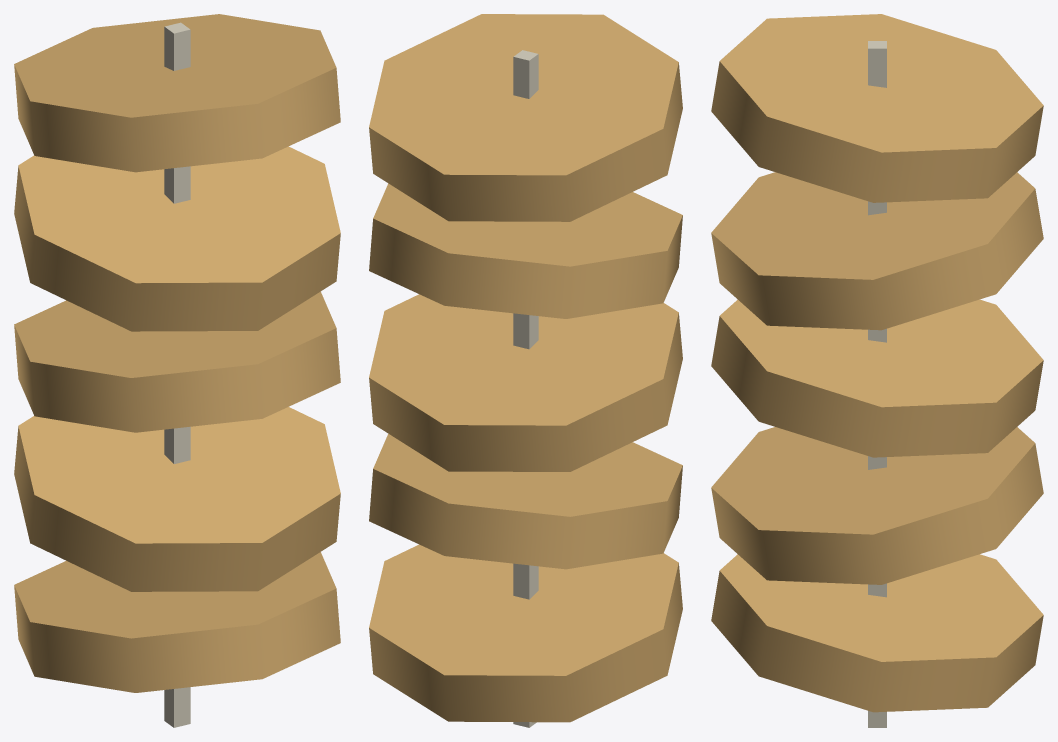
The model's file is good-driedapple.glb.
The picture shows the model from 3 angles, left to right: view 1: azimuth 30°, elevation 25°; view 2: azimuth 150°, elevation 25°; view 3: azimuth 270°, elevation 25°; orthographic projection. The views are drawn at different scales.
Visible parts, largest first — view 1: #d8b070_noshadow, #d8d2c0_noshadow; view 2: #d8b070_noshadow, #d8d2c0_noshadow; view 3: #d8b070_noshadow, #d8d2c0_noshadow.
Boxes of the visible parts, x1=… form: #d8b070_noshadow: x1=14, y1=14, x2=340, y2=692; #d8d2c0_noshadow: x1=164, y1=22, x2=190, y2=727; #d8b070_noshadow: x1=369, y1=14, x2=682, y2=722; #d8d2c0_noshadow: x1=513, y1=50, x2=538, y2=727; #d8b070_noshadow: x1=711, y1=14, x2=1043, y2=712; #d8d2c0_noshadow: x1=868, y1=41, x2=886, y2=727.
Bounding box in the file's own units: 0.07 × 0.16 × 0.071.
